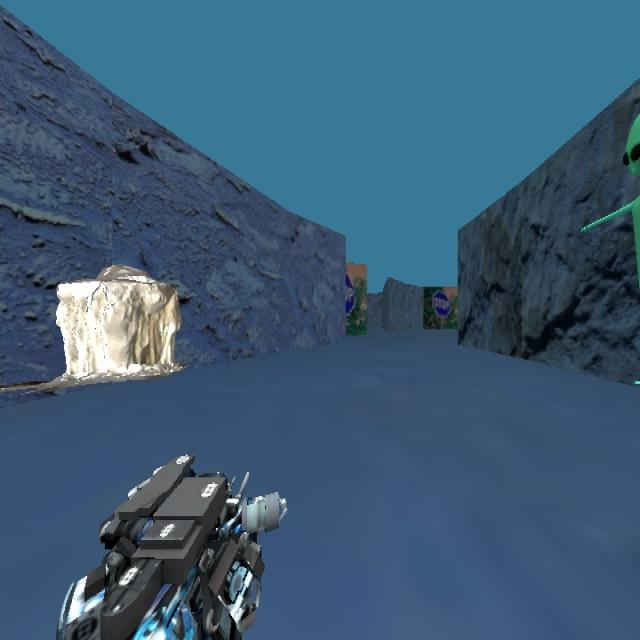Alien: (579, 111, 639, 289)
Ice: (2, 212, 234, 400)
Stop_Sign: (427, 284, 455, 327), (431, 290, 451, 318), (345, 272, 355, 316)
